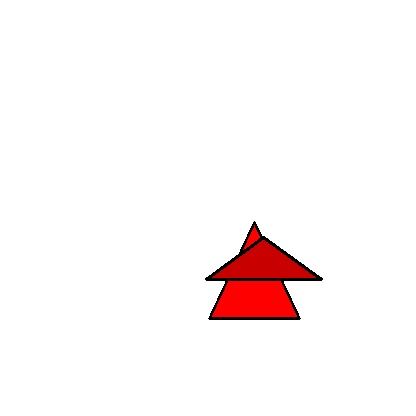triangle: (209, 222, 299, 318), (206, 237, 321, 279)
